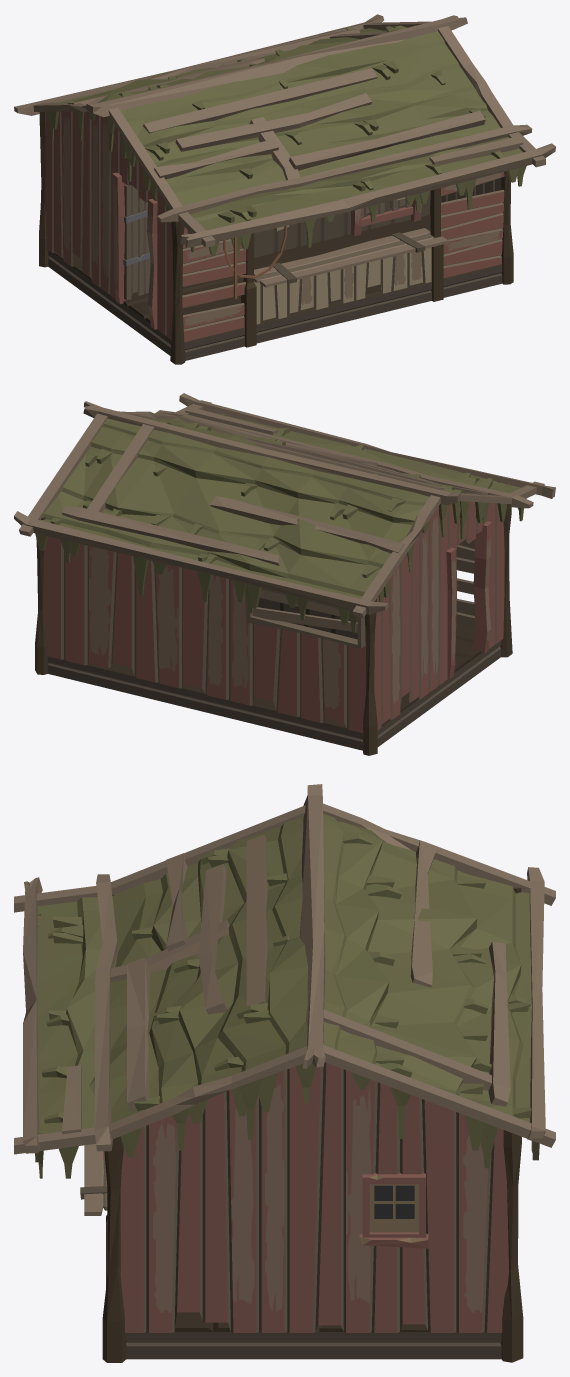
File: SM_Bld_Shanty_Preset_Bar_01.glb
3 views of the same model, one above another, from view 1: azimuth 30°, elevation 25°; view 2: azimuth 150°, elevation 25°; view 3: azimuth 270°, elevation 25° (orthographic). The views are drawn at different scales.
Visible parts, largest first — view 1: SM_Bld_Shanty_Preset_Bar_01_part00; view 2: SM_Bld_Shanty_Preset_Bar_01_part00; view 3: SM_Bld_Shanty_Preset_Bar_01_part00.
Boxes of the visible parts, bbox=[...] form: SM_Bld_Shanty_Preset_Bar_01_part00: bbox=[14, 14, 555, 364]; SM_Bld_Shanty_Preset_Bar_01_part00: bbox=[14, 393, 555, 755]; SM_Bld_Shanty_Preset_Bar_01_part00: bbox=[14, 784, 555, 1362].
Size of the model in its own units: 7.7 by 4.16 by 6.42.
Materials: 1 (1 with a texture image).
